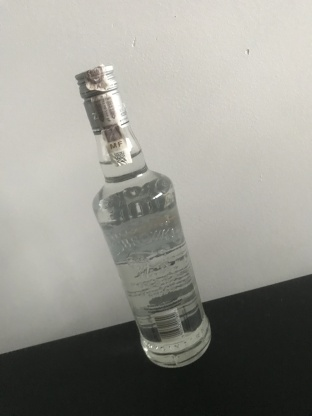nakretka: (73, 62, 130, 137)
